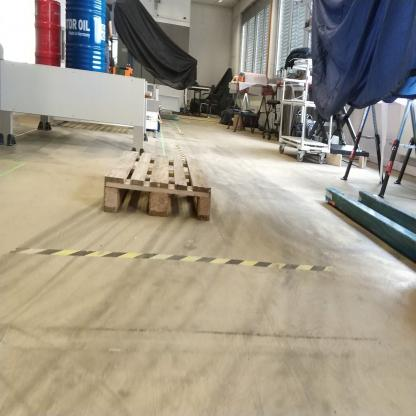BoxFace: (100, 147, 217, 227)
